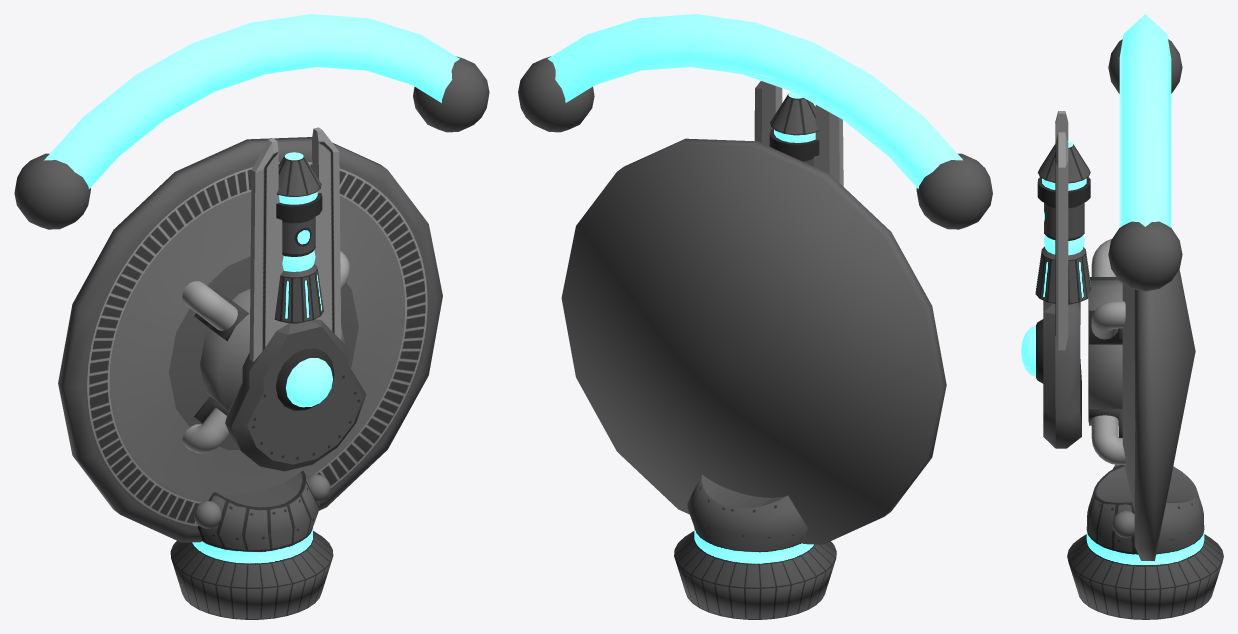
Rendered from shooter.glb.
3 renders of one model, left to right at view 1: azimuth 30°, elevation 25°; view 2: azimuth 150°, elevation 25°; view 3: azimuth 270°, elevation 25°, orthographic. The views are drawn at different scales.
Visible parts, largest first — view 1: MainBody, Turret, Shield, Engine; view 2: MainBody, Shield, Engine, Turret; view 3: MainBody, Engine, Shield, Turret.
Boxes of the visible parts, x1,y1,x2,y2 form: MainBody: (58, 137, 442, 542); Turret: (225, 127, 366, 471); Shield: (14, 14, 489, 229); Engine: (170, 470, 333, 619); MainBody: (561, 138, 946, 544); Shield: (518, 14, 992, 229); Engine: (674, 474, 836, 619); Turret: (754, 81, 843, 186); MainBody: (1088, 227, 1195, 560); Engine: (1067, 464, 1223, 619); Shield: (1108, 14, 1182, 291); Turret: (1021, 111, 1090, 448).
Bounding box in the file's own units: 592 × 691 × 233.
Materials: 4 (4 with a texture image).
